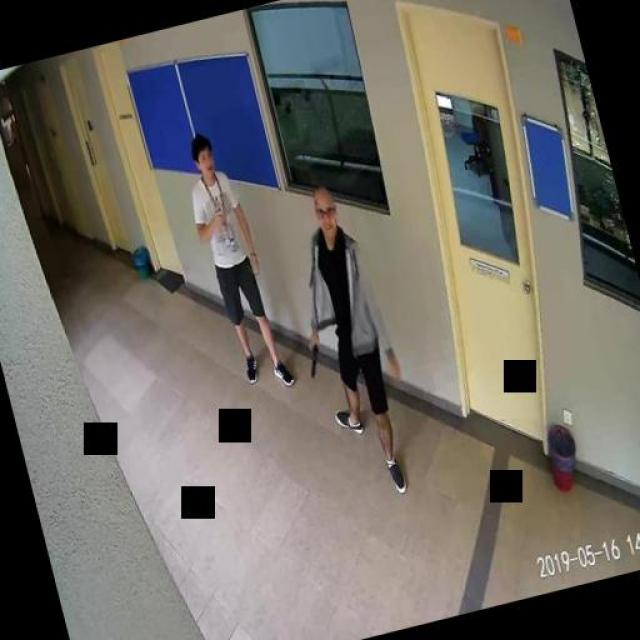gun: (302, 339, 322, 376)
